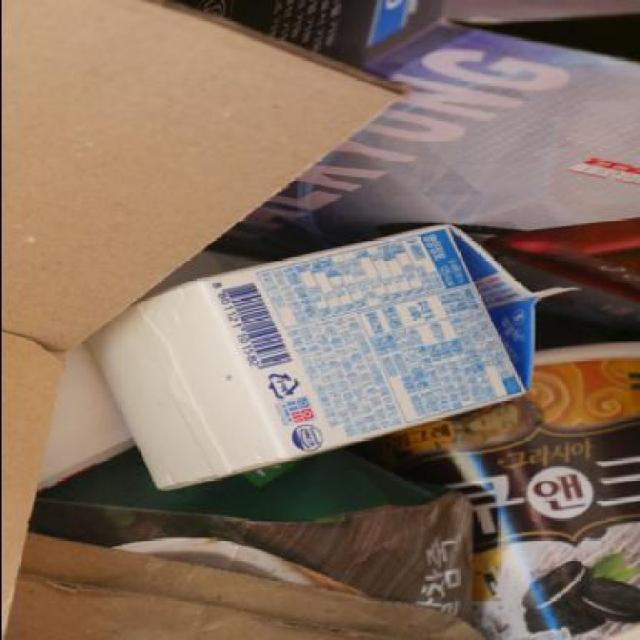non_white_jug: (76, 218, 578, 494)
